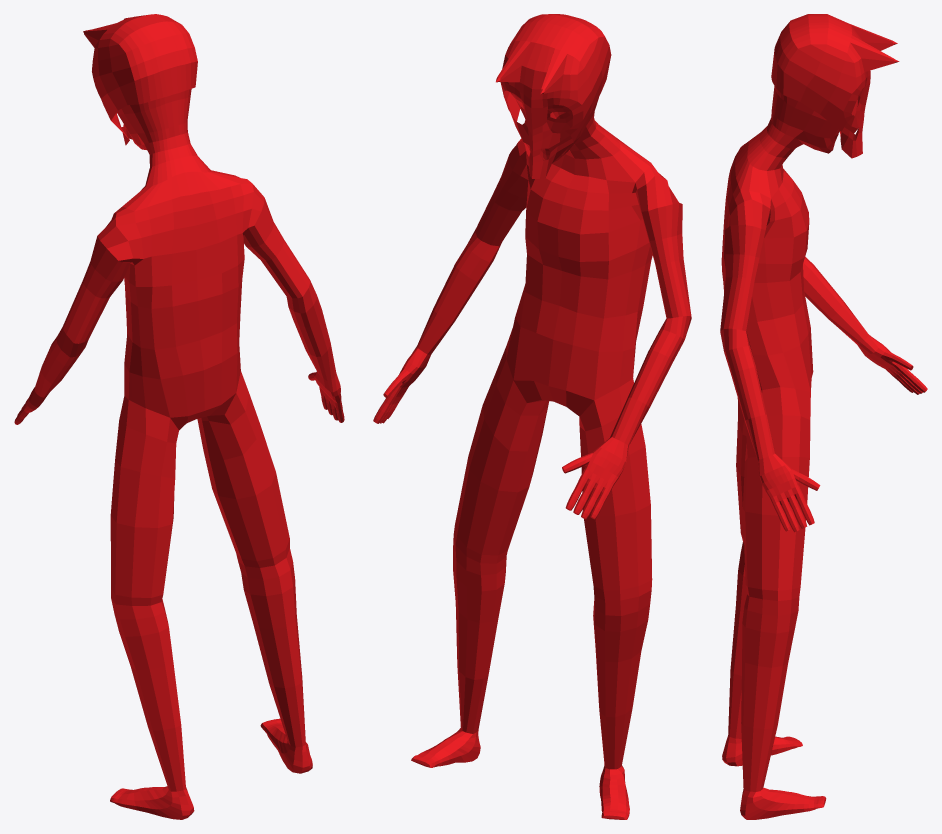
Rendered from reposoE_000304.obj.
3 renders of one model, left to right at view 1: azimuth 30°, elevation 25°; view 2: azimuth 150°, elevation 25°; view 3: azimuth 270°, elevation 25°, orthographic. The views are drawn at different scales.
Parts seen in each view (by area): view 1: Plane.002_Plane.001; view 2: Plane.002_Plane.001; view 3: Plane.002_Plane.001.
Part boxes in pixels (x1,y1,x2,y2): Plane.002_Plane.001: [14, 14, 344, 819]; Plane.002_Plane.001: [373, 14, 691, 819]; Plane.002_Plane.001: [720, 14, 927, 819].
Size of the model in its own units: 2.8 by 7.14 by 1.8.
